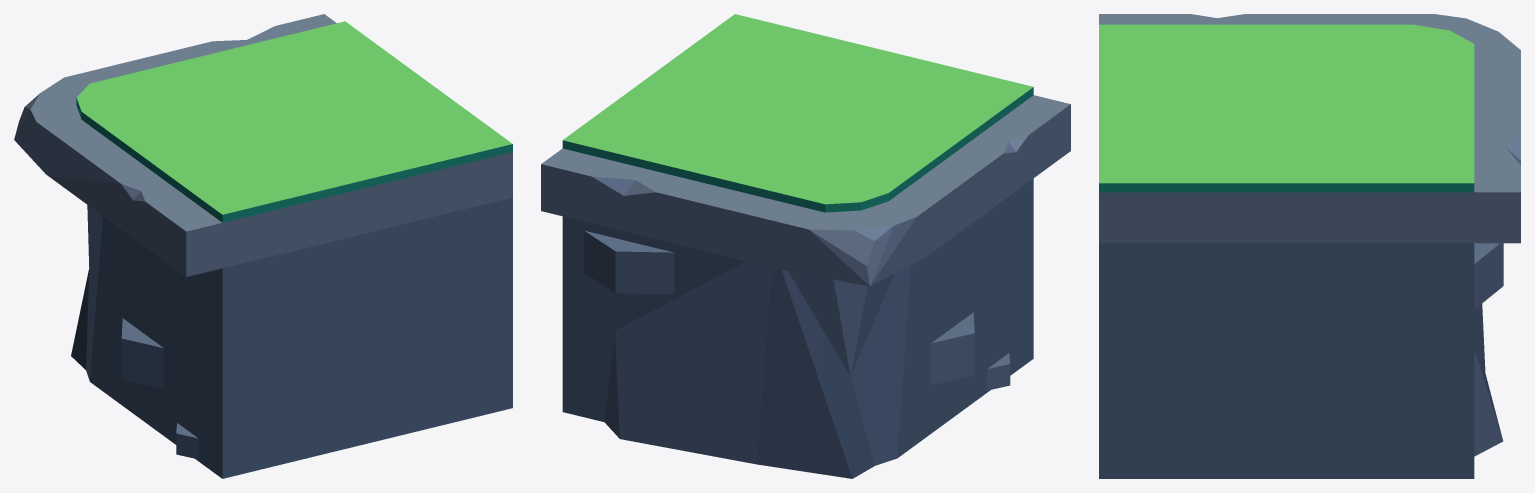
File: Highland_Corner_02.fbx
3 views of the same model, side by side, from view 1: azimuth 30°, elevation 25°; view 2: azimuth 150°, elevation 25°; view 3: azimuth 270°, elevation 25° (orthographic). The views are drawn at different scales.
Parts seen in each view (by area): view 1: Highland_Corner_02; view 2: Highland_Corner_02; view 3: Highland_Corner_02.
Boxes of the visible parts, left/top/right/bottom form: Highland_Corner_02: left=14, top=14, right=512, bottom=478; Highland_Corner_02: left=541, top=14, right=1070, bottom=478; Highland_Corner_02: left=1099, top=14, right=1520, bottom=478.
Size of the model in its own units: 1.5 by 1.16 by 1.5.
